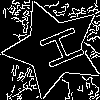H: (28, 23, 86, 75)
